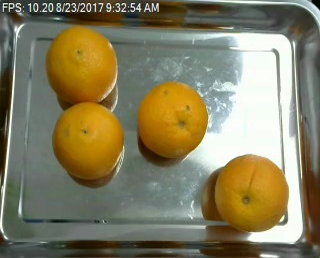Orange: (214, 153, 290, 232), (45, 25, 118, 105), (50, 103, 125, 179), (136, 81, 207, 157)
